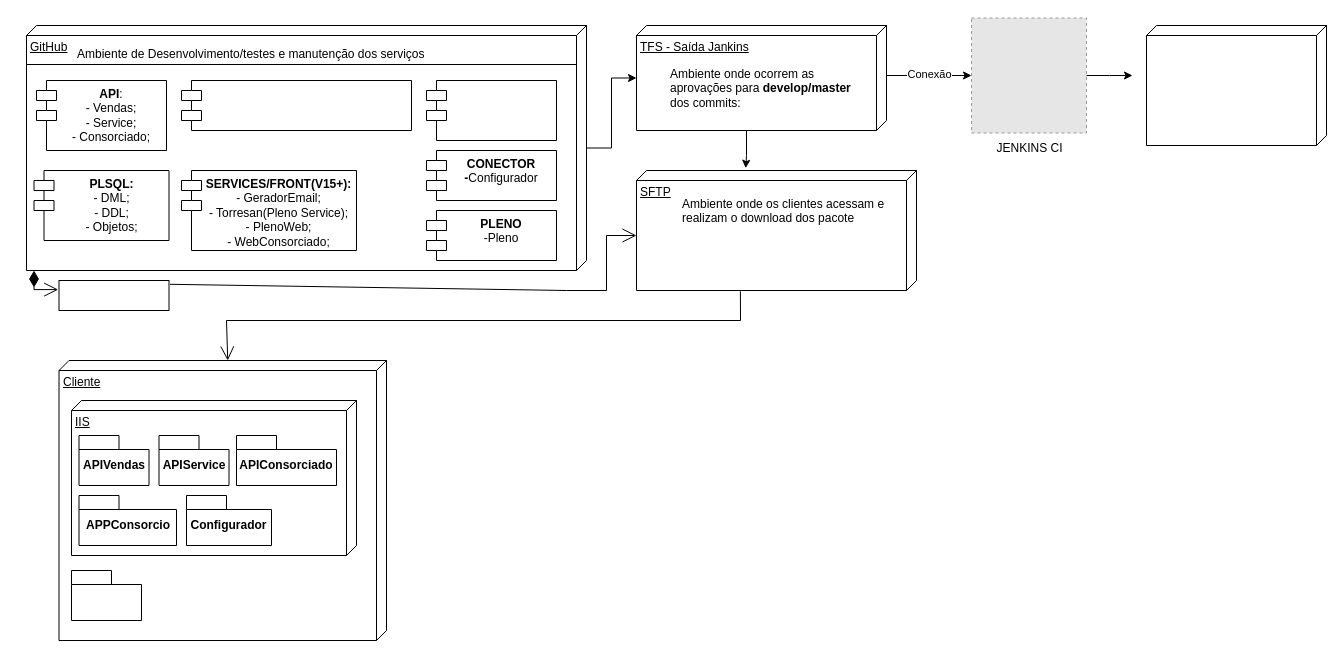
Some shapes in this 1344 by 658 pixel diagram are drawn without their labels. Grey dashed boxes stand in for pictures. Each missing label, with the centre of its shape:
"C5Client" goes at point 106,595.
"FRONT: - Consorcio(Vendas+Consorciado)" goes at point 296,105.
"MSBuild" goes at point 1236,85.
"SINQIA -SQConnect -EFinanceira" goes at point 491,110.
"«interface» Serviços" goes at point 113,295.
